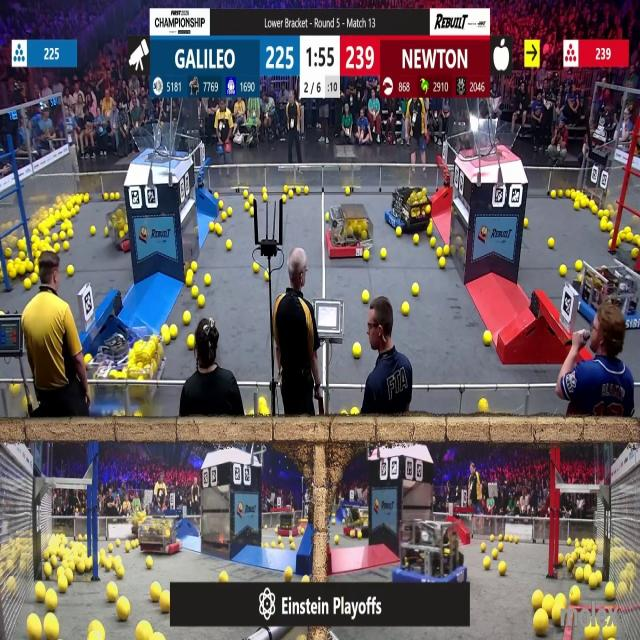ball_ground: (536, 612, 550, 638), (116, 598, 129, 621), (158, 590, 170, 611), (44, 592, 56, 612), (137, 623, 151, 640), (150, 584, 160, 603), (552, 607, 562, 626), (107, 585, 117, 603), (570, 588, 580, 605), (532, 593, 541, 609), (36, 586, 45, 602), (602, 628, 614, 640), (590, 574, 600, 588), (605, 586, 613, 602), (574, 568, 583, 582), (353, 344, 361, 359), (218, 570, 228, 582), (484, 333, 492, 347), (480, 398, 488, 412), (60, 580, 68, 594), (115, 566, 124, 578), (43, 563, 51, 576), (499, 561, 506, 575), (285, 567, 292, 581), (198, 295, 206, 307), (185, 274, 193, 286), (183, 312, 190, 325), (187, 337, 194, 350), (171, 324, 178, 336), (362, 290, 369, 302), (560, 266, 567, 278), (413, 283, 420, 295), (440, 256, 447, 268), (402, 303, 408, 316), (146, 557, 153, 568), (25, 279, 32, 290), (600, 219, 607, 230), (105, 560, 112, 571), (68, 266, 74, 278), (10, 384, 18, 393), (258, 407, 266, 416), (190, 286, 197, 296), (435, 247, 442, 257), (18, 265, 25, 275), (574, 262, 580, 273), (485, 558, 491, 569), (381, 248, 387, 259), (632, 248, 638, 259), (205, 275, 211, 286), (32, 274, 38, 285), (88, 559, 94, 570), (351, 409, 359, 417), (8, 271, 15, 280), (258, 397, 265, 406), (123, 541, 130, 550), (163, 325, 170, 334), (363, 250, 369, 260), (190, 263, 196, 273), (547, 238, 553, 248), (445, 246, 451, 256), (414, 235, 420, 245), (165, 335, 171, 345), (61, 232, 67, 242), (83, 192, 89, 202), (558, 555, 564, 565), (50, 234, 56, 244), (28, 263, 34, 273), (568, 188, 574, 198), (627, 233, 633, 243), (634, 235, 640, 245), (396, 229, 402, 238), (64, 242, 70, 251), (492, 550, 498, 559), (429, 239, 435, 248), (253, 265, 259, 274), (551, 189, 557, 198), (220, 212, 226, 221), (226, 240, 231, 250), (427, 225, 432, 235), (216, 224, 221, 234), (304, 574, 310, 582), (218, 202, 224, 210), (226, 208, 232, 216), (498, 542, 504, 550), (244, 203, 250, 211), (576, 276, 582, 284), (108, 543, 114, 551), (573, 202, 579, 210), (18, 252, 24, 260), (592, 206, 598, 214), (266, 409, 272, 417), (558, 189, 564, 197), (55, 244, 61, 252), (92, 225, 97, 234), (68, 231, 73, 240), (524, 218, 529, 227), (607, 240, 612, 249), (336, 535, 341, 544), (248, 411, 254, 418), (498, 534, 504, 541), (115, 190, 120, 198), (244, 190, 249, 198), (324, 213, 329, 221), (282, 194, 287, 202), (288, 190, 293, 198), (617, 240, 622, 248), (34, 266, 39, 274), (249, 193, 254, 201), (266, 273, 270, 282), (482, 542, 486, 551), (0, 272, 4, 281), (264, 193, 269, 200), (290, 542, 295, 549), (357, 535, 362, 542), (278, 538, 283, 545), (36, 251, 41, 258), (214, 194, 219, 201), (250, 208, 254, 216), (210, 222, 214, 230), (104, 192, 108, 200), (346, 187, 350, 195), (116, 538, 120, 546), (490, 535, 495, 541), (272, 542, 277, 548), (288, 536, 293, 542), (515, 536, 520, 542), (305, 187, 309, 194), (284, 185, 288, 192), (105, 230, 108, 238), (0, 310, 4, 316), (299, 528, 303, 534), (331, 520, 335, 525)
goal: (465, 122, 521, 160), (130, 131, 189, 161)
robot_blue: (73, 328, 127, 415), (398, 522, 467, 589), (576, 265, 636, 328), (387, 185, 432, 233), (0, 305, 18, 356)
robot_red: (326, 202, 373, 257), (126, 335, 168, 386), (136, 515, 182, 555), (108, 208, 136, 251), (344, 506, 371, 537), (275, 511, 298, 536)
